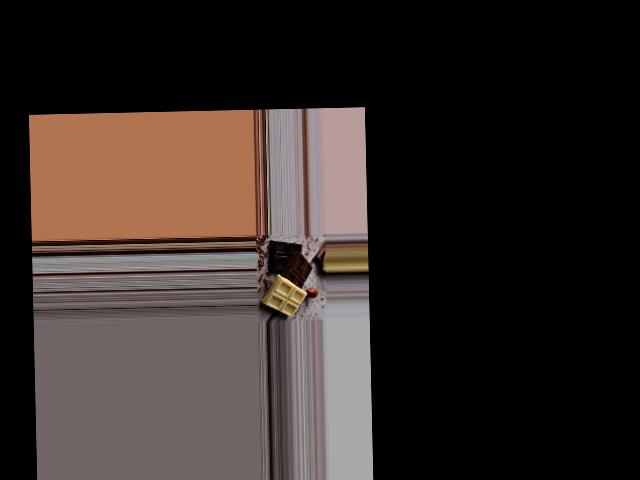chocolate: (264, 236, 313, 317)
